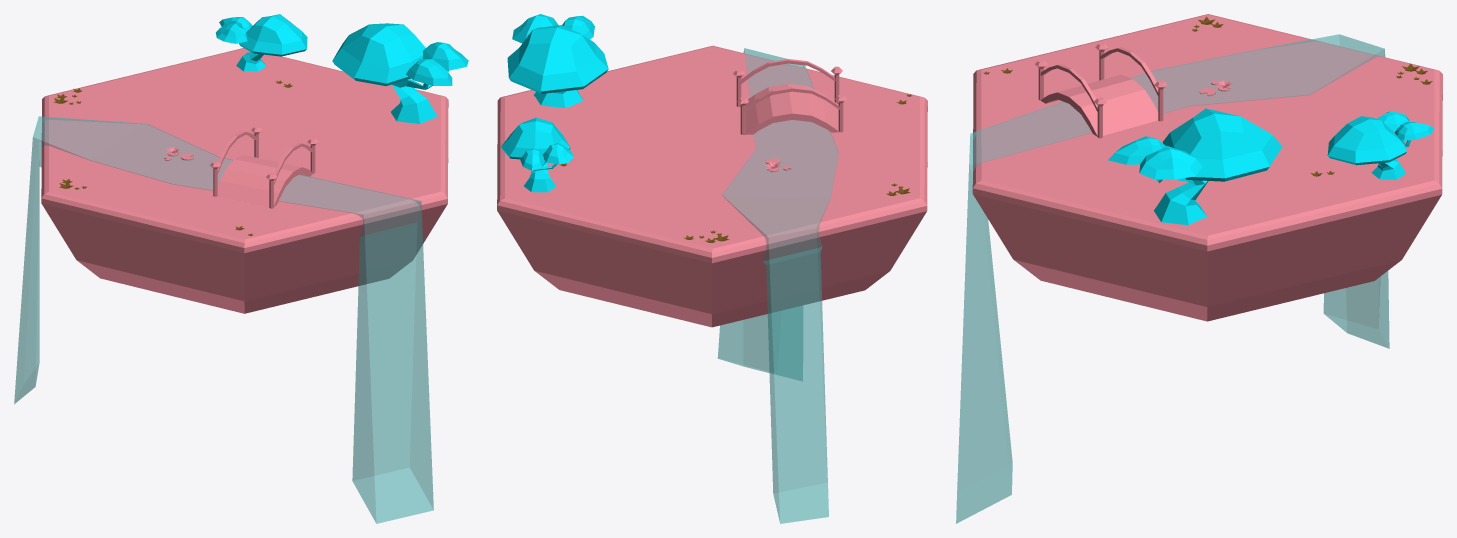
File: Asset_Biome_China_02.fbx
The picture shows the model from 3 angles, left to right: view 1: azimuth 30°, elevation 25°; view 2: azimuth 150°, elevation 25°; view 3: azimuth 270°, elevation 25°; orthographic projection. The views are drawn at different scales.
Parts seen in each view (by area): view 1: Asset_Tile_China, PolySurface_Water, Tree_china, PolySurface_Bridge, Tree_china1; view 2: Asset_Tile_China, PolySurface_Water, Tree_china, PolySurface_Bridge, Tree_china1; view 3: Asset_Tile_China, PolySurface_Water, Tree_china, PolySurface_Bridge, Tree_china1.
Part boxes in pixels (x1=…): Asset_Tile_China: x1=41, y1=48, x2=448, y2=313; PolySurface_Water: x1=14, y1=116, x2=433, y2=523; Tree_china: x1=332, y1=23, x2=468, y2=123; PolySurface_Bridge: x1=209, y1=126, x2=318, y2=208; Tree_china1: x1=216, y1=14, x2=307, y2=71; Asset_Tile_China: x1=497, y1=45, x2=927, y2=327; PolySurface_Water: x1=717, y1=48, x2=838, y2=523; Tree_china: x1=507, y1=14, x2=608, y2=107; PolySurface_Bridge: x1=733, y1=59, x2=846, y2=134; Tree_china1: x1=501, y1=117, x2=573, y2=192; Asset_Tile_China: x1=972, y1=14, x2=1442, y2=321; PolySurface_Water: x1=956, y1=34, x2=1389, y2=523; Tree_china: x1=1108, y1=108, x2=1282, y2=225; PolySurface_Bridge: x1=1034, y1=42, x2=1167, y2=138; Tree_china1: x1=1327, y1=111, x2=1434, y2=179.
Bounding box in the file's own units: 436 × 396 × 392.
